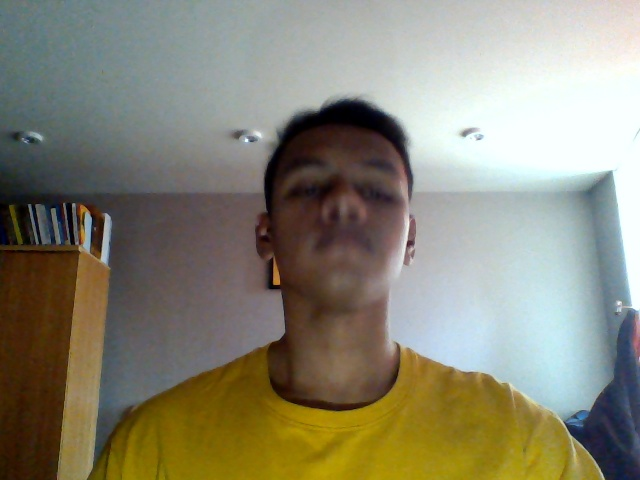no_mask: (264, 200, 407, 295)
